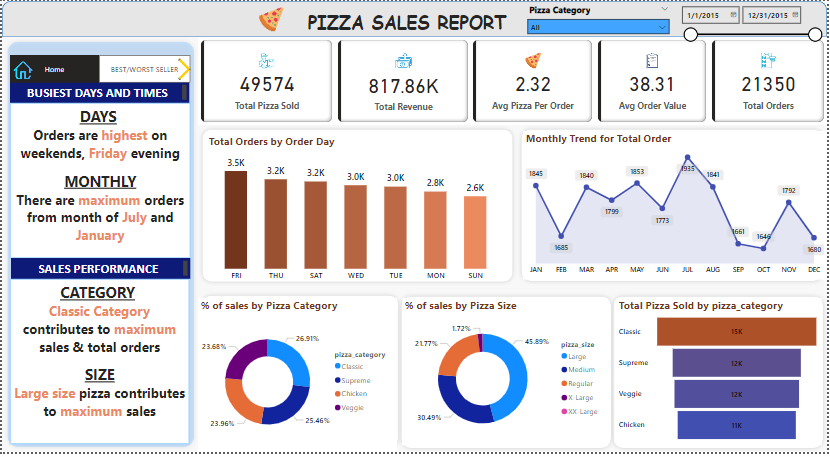

Layout of this report page (visuals, bound fields, positions):
{"tool":"powerbi","page":{"name":"Home","canvas":[1500,820],"ordinal":0},"visuals":[{"type":"cardVisual","fields":{"Data":["pizza_sales.Total Revenue","pizza_sales.Total Revenue"]},"box":[605.5,65.5,247.3,160],"z":0},{"type":"shape","box":[0,0,1500,65],"z":1000},{"type":"cardVisual","fields":{"Data":["pizza_sales.Avg Order Value"]},"box":[1078.2,65.5,207.3,160],"z":2000},{"type":"textbox","box":[536,10,400,56],"z":3000},{"type":"cardVisual","fields":{"Data":["pizza_sales.Total Orders"]},"box":[1285.5,65.5,214.5,160],"z":4000},{"type":"image","box":[436,6,106,56],"z":5000},{"type":"cardVisual","fields":{"Data":["pizza_sales.Total Pizza Sold"]},"box":[356.4,65.5,249.1,160],"z":6000},{"type":"cardVisual","fields":{"Data":["pizza_sales.Avg Pizza Per Order"]},"box":[850.9,65.5,227.3,160],"z":7000},{"type":"shape","box":[355.7,225.7,580,292.9],"z":8000},{"type":"columnChart","fields":{"Category":["pizza_sales.Order Day"],"Y":["pizza_sales.Total Orders"]},"box":[370,242,546,276],"z":9000},{"type":"shape","box":[935.7,225.7,564.3,291.4],"z":10000},{"type":"shape","box":[1102.9,528.6,397.1,291.4],"z":11000},{"type":"shape","box":[356,528,372,292],"z":12000},{"type":"shape","box":[718.6,528.6,397.1,291.4],"z":13000},{"type":"shape","box":[2,66,356,754],"z":14000},{"type":"donutChart","title":"% of sales by Pizza Category","fields":{"Category":["pizza_sales.pizza_category"],"Y":["pizza_sales.Total Revenue"]},"box":[356,540,362,280],"z":15000},{"type":"funnel","fields":{"Category":["pizza_sales.pizza_category"],"Y":["pizza_sales.Total Pizza Sold"]},"box":[1115.7,540,374.3,267.1],"z":16000},{"type":"areaChart","title":"Monthly Trend for Total Order","fields":{"Y":["pizza_sales.Total Orders"],"Category":["pizza_sales.Order Month"]},"box":[947.5,236.2,552.5,270],"z":17000},{"type":"donutChart","title":"% of sales by Pizza Size","fields":{"Category":["pizza_sales.pizza_size"],"Y":["pizza_sales.Total Revenue"]},"box":[728,540,374,268],"z":18000},{"type":"textbox","box":[14,148,326,38],"z":19000},{"type":"textbox","box":[14,186,328,282],"z":20000},{"type":"textbox","box":[16,468,326,38],"z":21000},{"type":"textbox","box":[14,506,326,300],"z":22000},{"type":"slicer","fields":{"Values":["pizza_sales.pizza_category"]},"box":[946,0,278,62],"z":23000},{"type":"slicer","fields":{"Values":["pizza_sales.order_date"]},"box":[1224,0,276,84],"z":24000},{"type":"pageNavigator","box":[14,98,162,50],"z":25000},{"type":"pageNavigator","box":[176,98,166,50],"z":26000},{"type":"image","box":[292,100,78,48],"z":27000},{"type":"image","box":[16,102,44,48],"z":28000}]}

Visuals, with their boxes in screenshot pixels (x1, y1, x2, y2), scaled from the page's 1500x820 canvas onto the 830x457 screenshot:
cardVisual - pizza_sales.Total Revenue x pizza_sales.Total Revenue: crop(335, 37, 472, 126)
shape: crop(0, 0, 829, 36)
cardVisual - pizza_sales.Avg Order Value: crop(597, 37, 711, 126)
textbox: crop(297, 6, 518, 37)
cardVisual - pizza_sales.Total Orders: crop(711, 37, 829, 126)
image: crop(241, 3, 300, 35)
cardVisual - pizza_sales.Total Pizza Sold: crop(197, 37, 335, 126)
cardVisual - pizza_sales.Avg Pizza Per Order: crop(471, 37, 597, 126)
shape: crop(197, 126, 518, 289)
columnChart - pizza_sales.Order Day x pizza_sales.Total Orders: crop(205, 135, 507, 289)
shape: crop(518, 126, 829, 288)
shape: crop(610, 295, 829, 456)
shape: crop(197, 294, 403, 456)
shape: crop(398, 295, 617, 456)
shape: crop(1, 37, 198, 456)
"% of sales by Pizza Category" donutChart: crop(197, 301, 397, 456)
funnel - pizza_sales.pizza_category x pizza_sales.Total Pizza Sold: crop(617, 301, 824, 450)
"Monthly Trend for Total Order" areaChart: crop(524, 132, 829, 282)
"% of sales by Pizza Size" donutChart: crop(403, 301, 610, 450)
textbox: crop(8, 82, 188, 104)
textbox: crop(8, 104, 189, 261)
textbox: crop(9, 261, 189, 282)
textbox: crop(8, 282, 188, 449)
slicer - pizza_sales.pizza_category: crop(523, 0, 677, 35)
slicer - pizza_sales.order_date: crop(677, 0, 829, 47)
pageNavigator: crop(8, 55, 97, 82)
pageNavigator: crop(97, 55, 189, 82)
image: crop(162, 56, 205, 82)
image: crop(9, 57, 33, 84)
